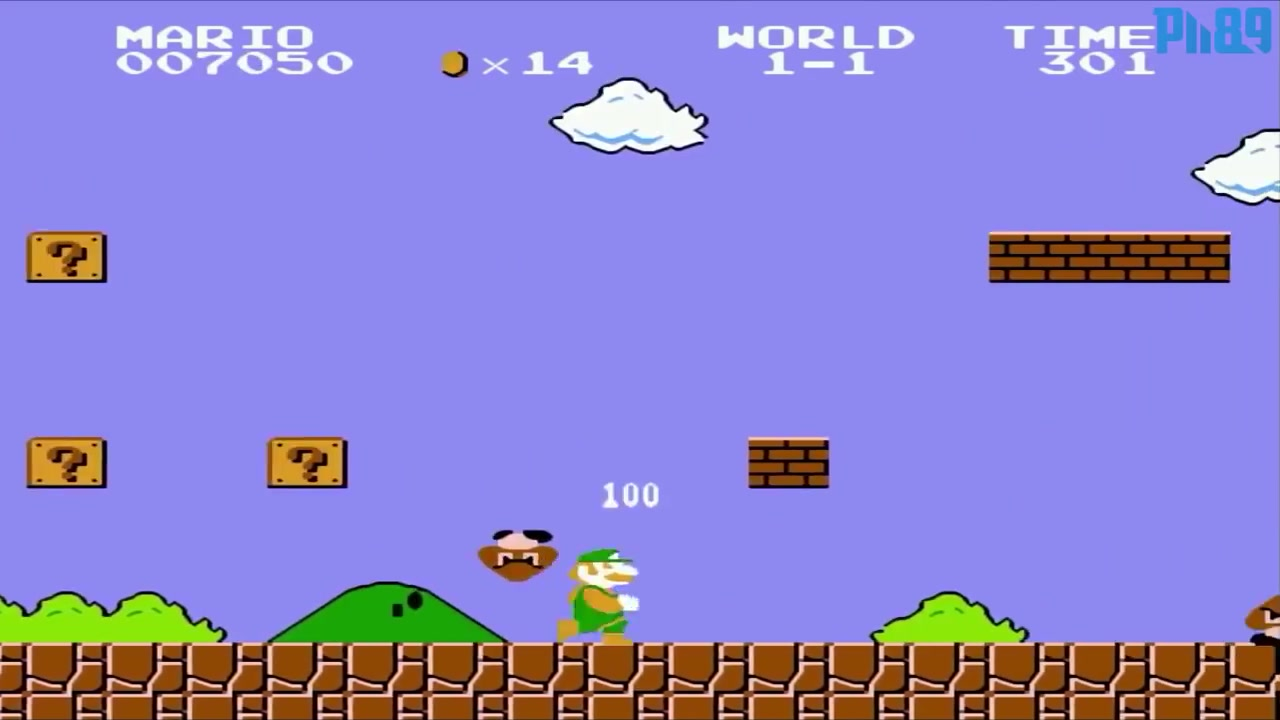mario: (542, 539, 645, 644)
